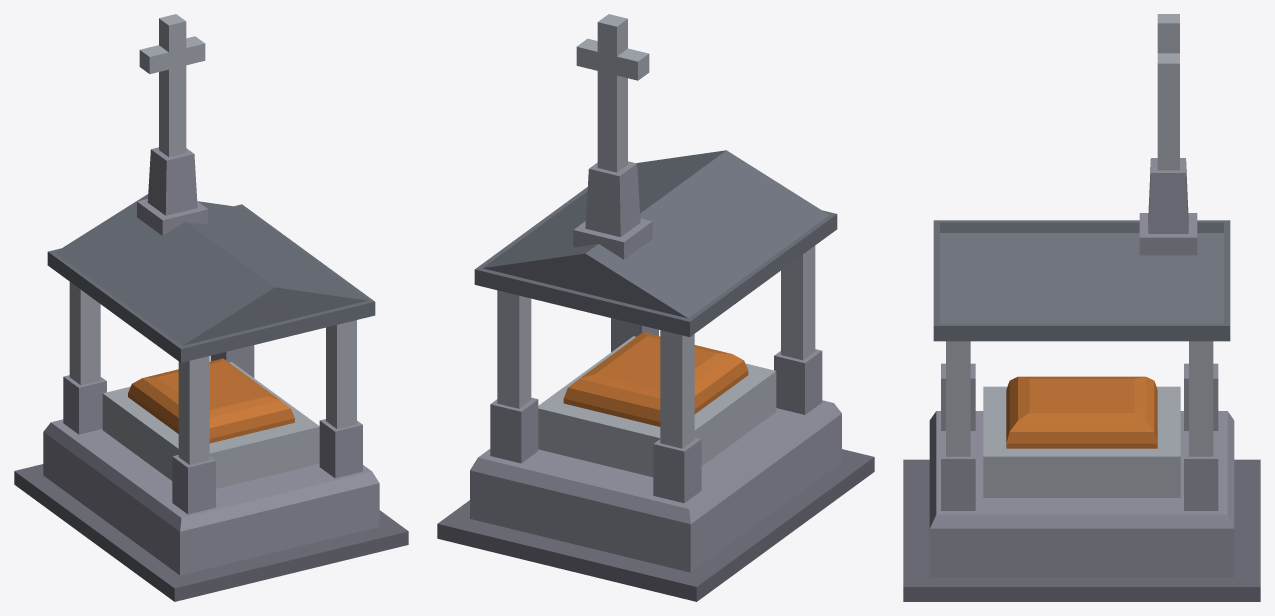
Rendered from HWN20_Grave_26.glb.
3 views of the same model, side by side, from view 1: azimuth 30°, elevation 25°; view 2: azimuth 150°, elevation 25°; view 3: azimuth 270°, elevation 25° (orthographic). The views are drawn at different scales.
Visible parts, largest first — view 1: HWN20_Grave_26; view 2: HWN20_Grave_26; view 3: HWN20_Grave_26.
Boxes of the visible parts, left/top/right/bottom form: HWN20_Grave_26: left=14, top=14, right=408, bottom=601; HWN20_Grave_26: left=437, top=14, right=874, bottom=601; HWN20_Grave_26: left=903, top=14, right=1260, bottom=601.
Size of what is drawn, in the model's own units: 1.09 by 2.07 by 1.29.
1 material, 1 textured.
